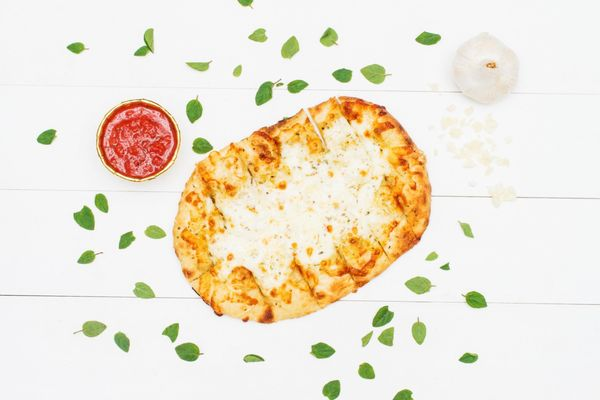sandwich: (172, 94, 431, 325)
